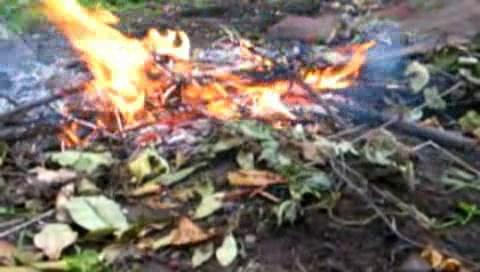fire: (54, 4, 157, 109), (190, 59, 361, 103)
